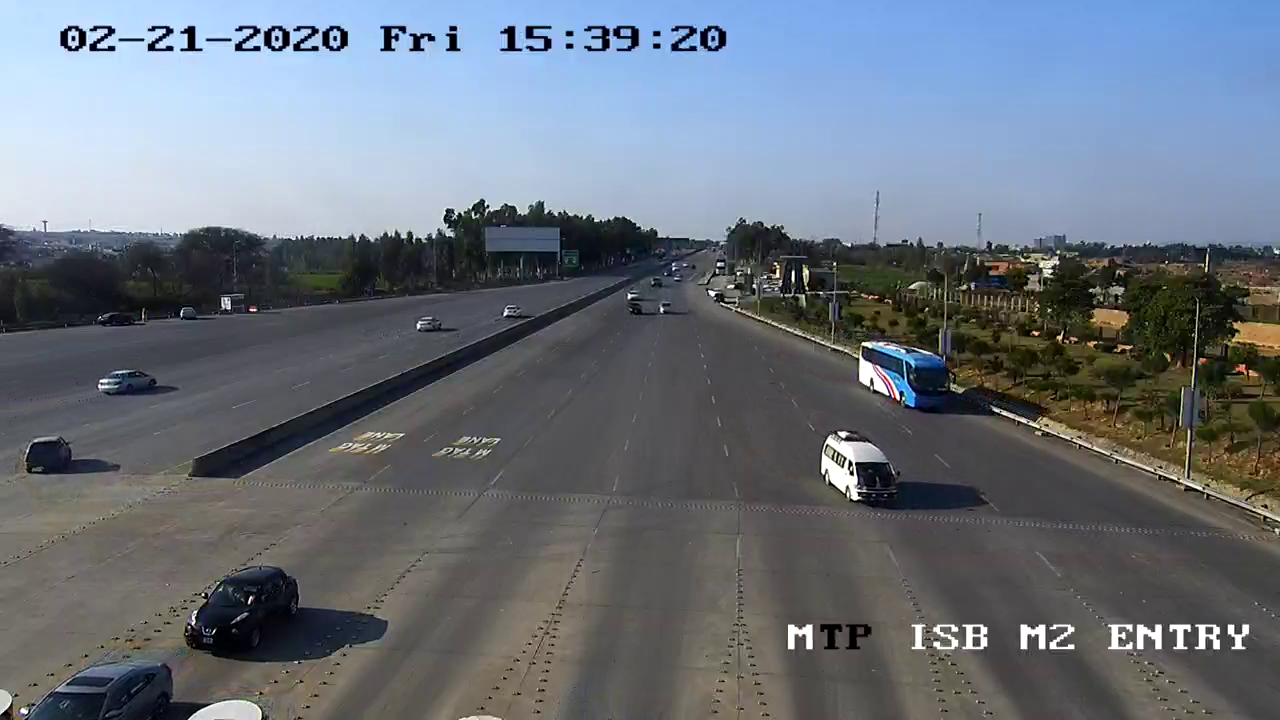f1: (174, 552, 311, 664)
f2: (811, 421, 911, 512)
f4: (854, 332, 960, 421)
